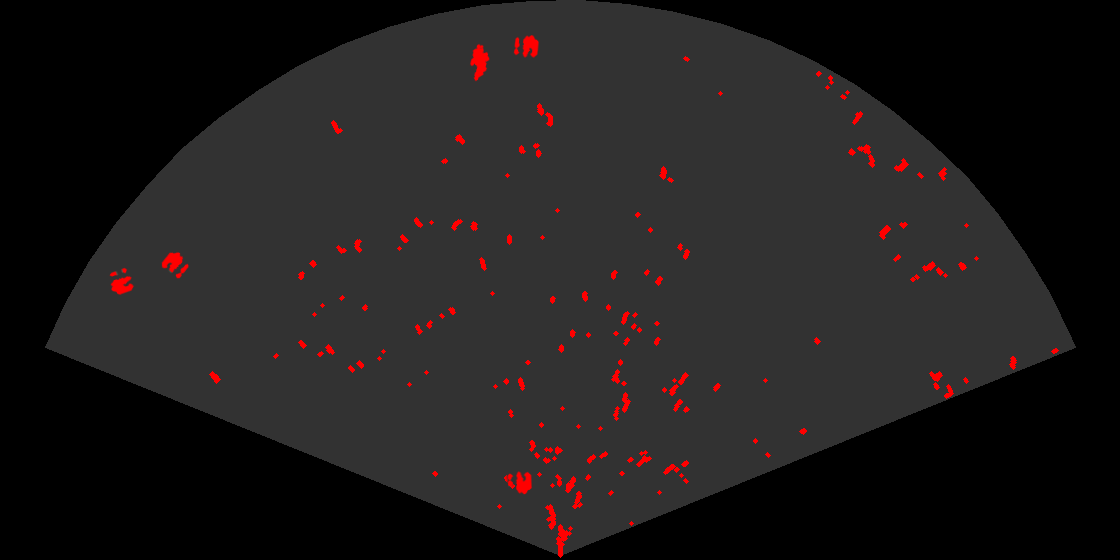AUV: (468, 42, 491, 83)
ball: (160, 251, 190, 280), (108, 266, 136, 297), (512, 34, 540, 60), (506, 470, 534, 496)
